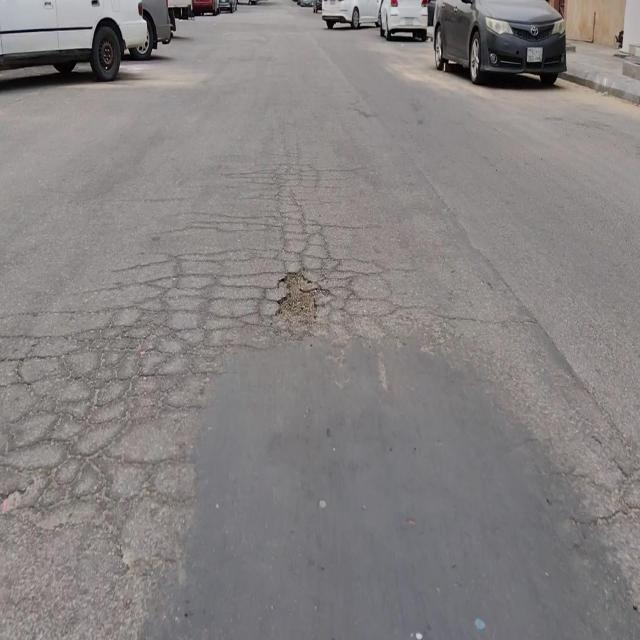Potholes: (272, 266, 330, 328)
